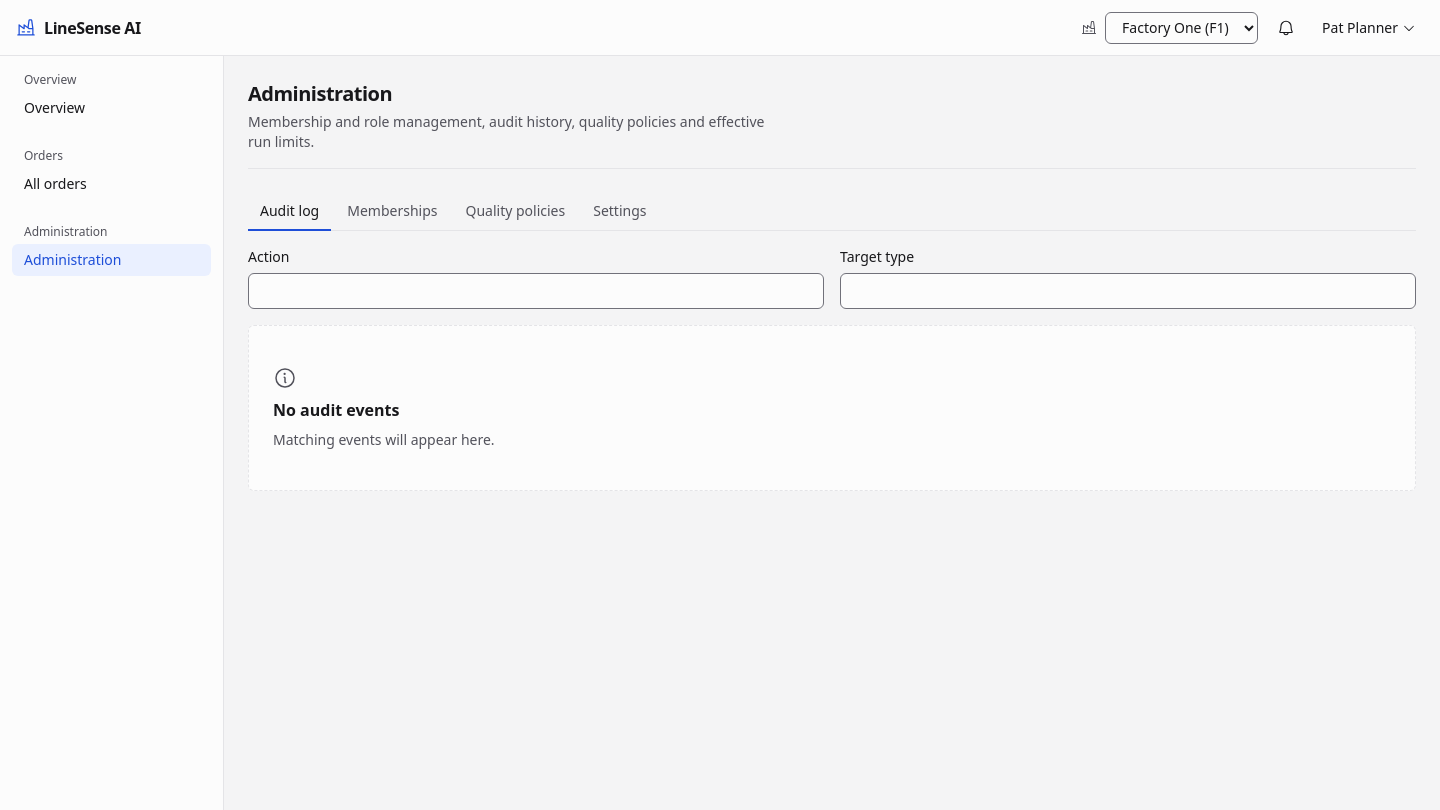
Scenario: MembershipTable › revokes a role only after the confirm dialog is accepted
Click the tab "Memberships".
click(392, 212)  # box [335,193,450,231]
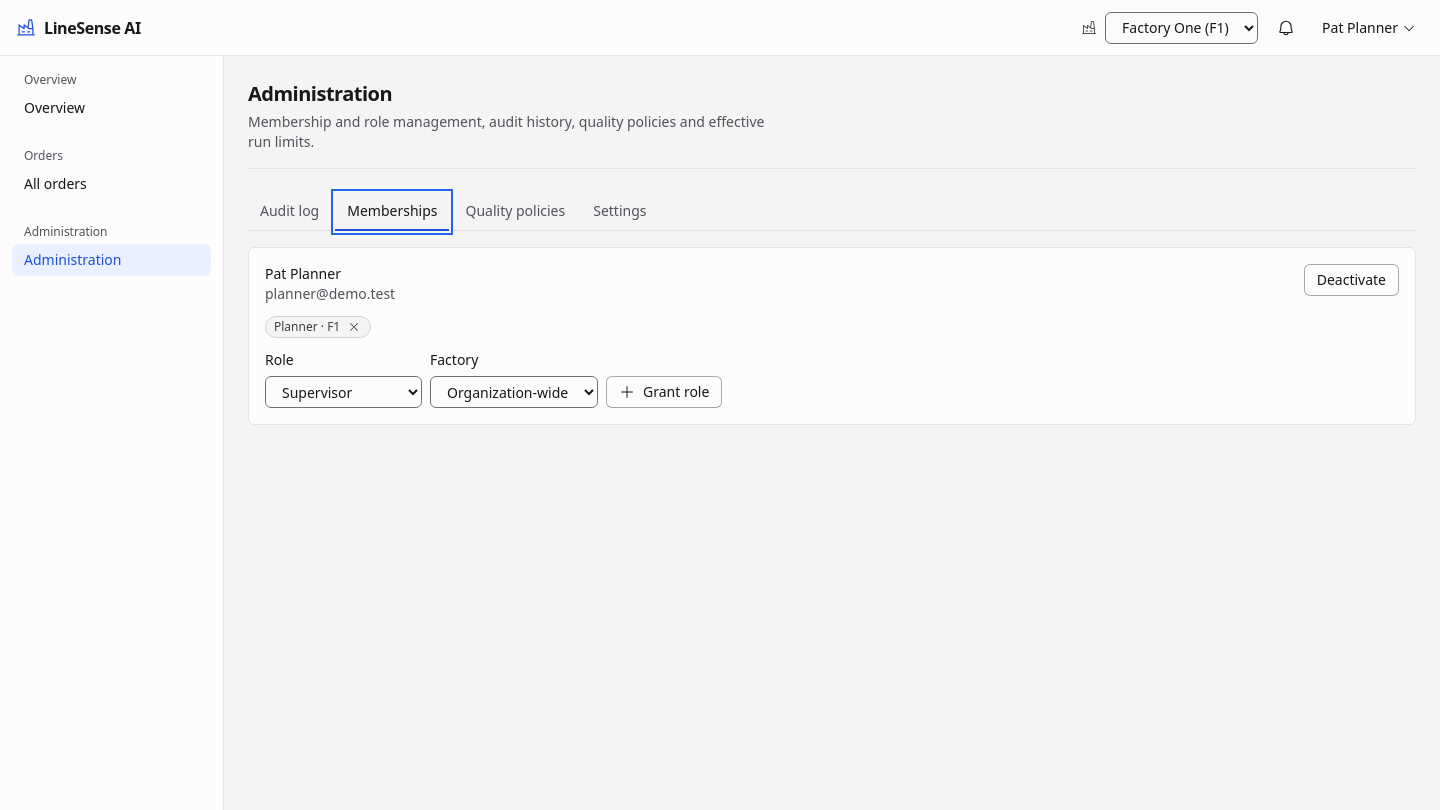
Click the button named "Revoke planner at F1".
click(354, 327)  # box [346,319,362,335]
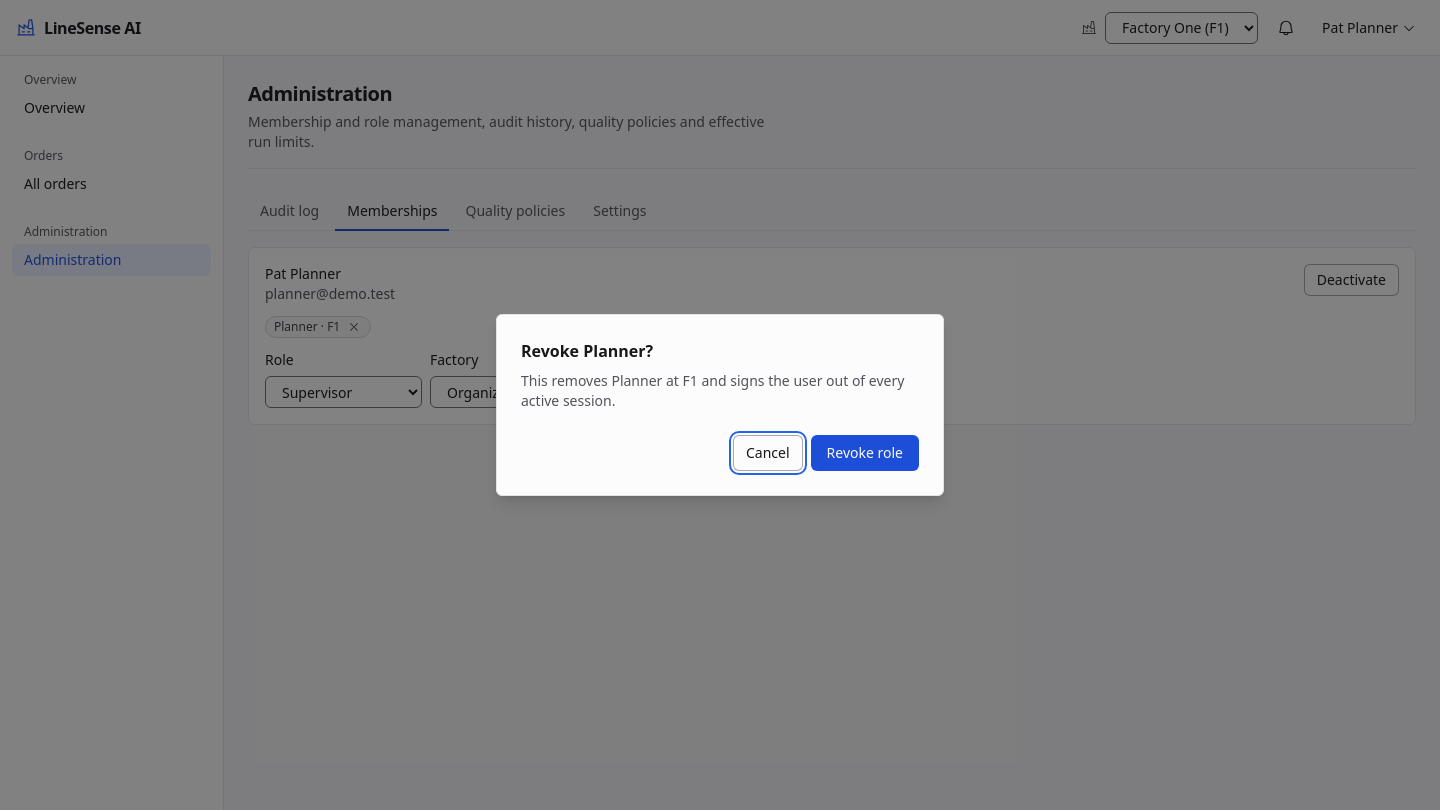
Expected: the heading "Revoke Planner?" is shown, [521,340,653,362]
Click the button "Revoke role".
click(865, 453)  # box [811,435,919,471]
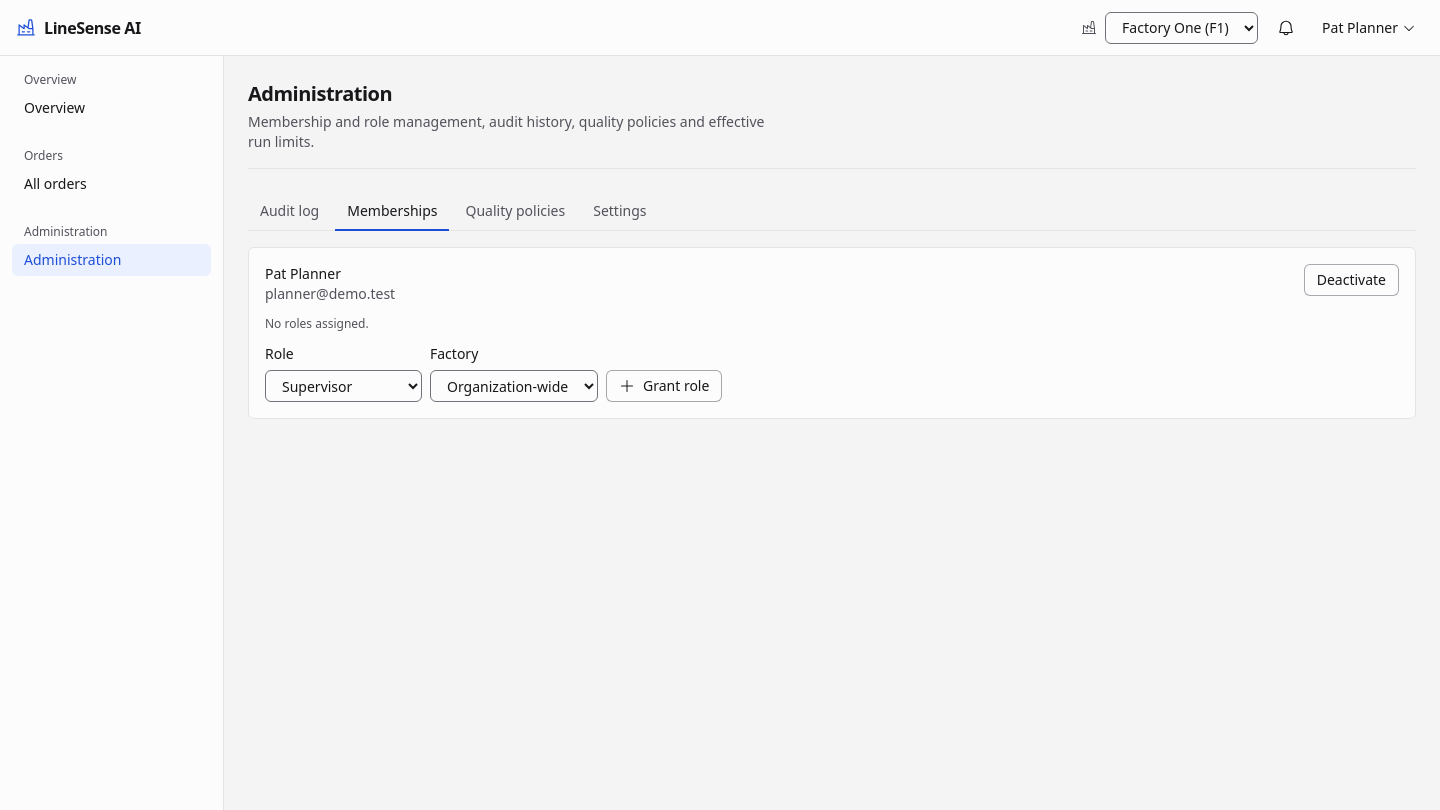
Expected: the dialog is gone
